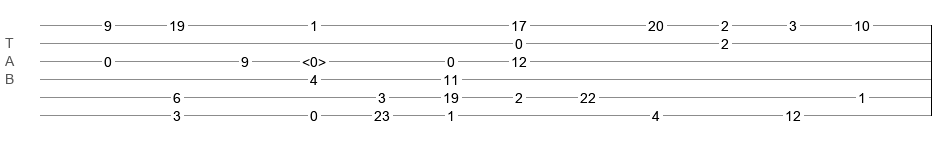0: (104, 54, 112, 64), (310, 108, 318, 118), (447, 54, 455, 64), (515, 36, 523, 46)
1: (310, 18, 318, 28), (447, 108, 455, 118), (858, 90, 866, 100)
10: (854, 18, 870, 28)
11: (443, 72, 459, 82)
12: (511, 54, 527, 64), (785, 108, 801, 118)
17: (511, 18, 527, 28)
19: (169, 18, 185, 28), (443, 90, 459, 100)
2: (515, 90, 523, 100), (721, 18, 729, 28), (721, 36, 729, 46)
20: (648, 18, 664, 28)
22: (580, 90, 596, 100)
23: (374, 108, 390, 118)
3: (173, 108, 181, 118), (378, 90, 386, 100), (789, 18, 797, 28)
4: (310, 72, 318, 82), (652, 108, 660, 118)
6: (173, 90, 181, 100)
9: (104, 18, 112, 28), (241, 54, 249, 64)
harmonic: (302, 54, 326, 64)
